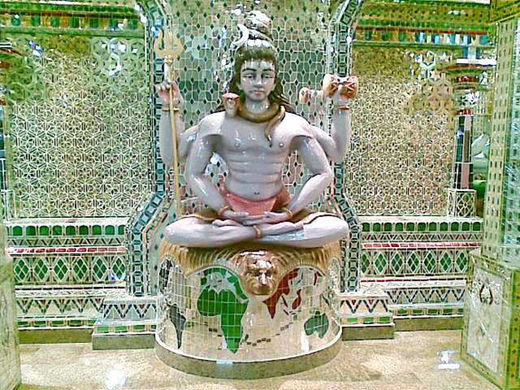Hindu Temple: (150, 7, 348, 248)
